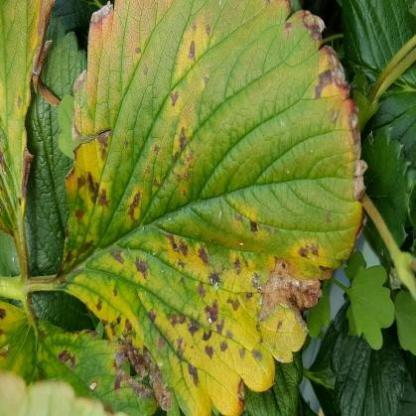Strawberry_Angular_LeafSpot: (49, 0, 370, 415), (0, 300, 160, 415), (0, 0, 62, 266)
